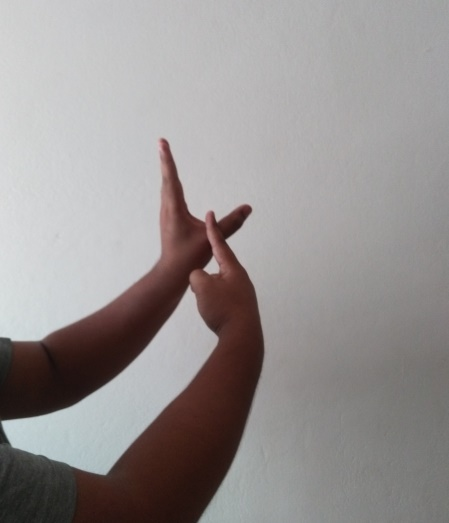dh: (153, 136, 262, 337)
